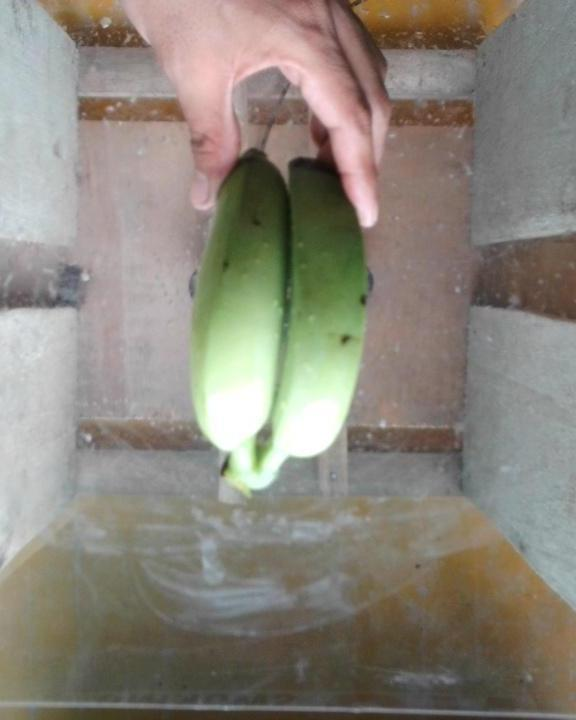CLASS B: (189, 127, 388, 509)
Class A: (351, 278, 369, 322), (335, 327, 357, 354)
